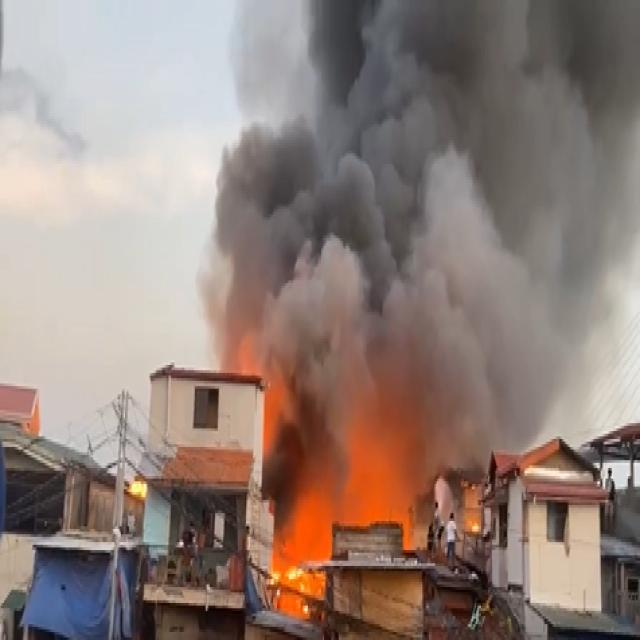Fire: (275, 372, 322, 605), (324, 430, 420, 531)
Smoke: (244, 5, 640, 271), (230, 270, 640, 373)
